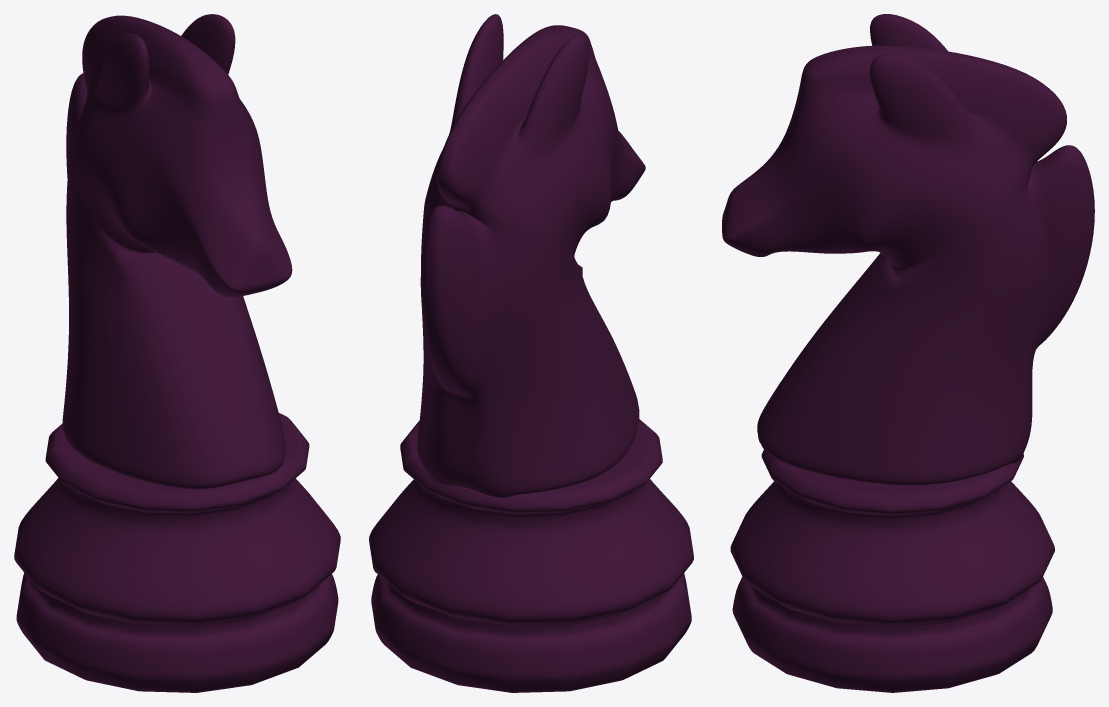
File: Knight_Space Oddyssey.fbx
3 views of the same model, side by side, from view 1: azimuth 30°, elevation 25°; view 2: azimuth 150°, elevation 25°; view 3: azimuth 270°, elevation 25° (orthographic).
Visible parts, largest first — view 1: Plane; view 2: Plane; view 3: Plane.
Boxes of the visible parts, x1,y1,x2,y2 form: Plane: [14, 14, 340, 692]; Plane: [369, 14, 693, 692]; Plane: [722, 14, 1094, 692].
Bounding box in the file's own units: 73.16 × 150 × 84.07.
